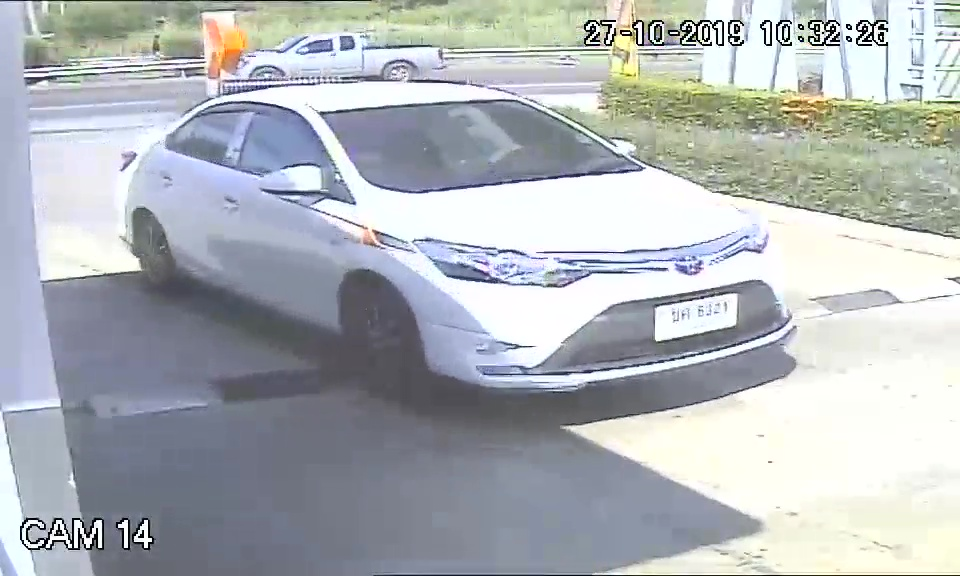sedan: (114, 81, 796, 403)
